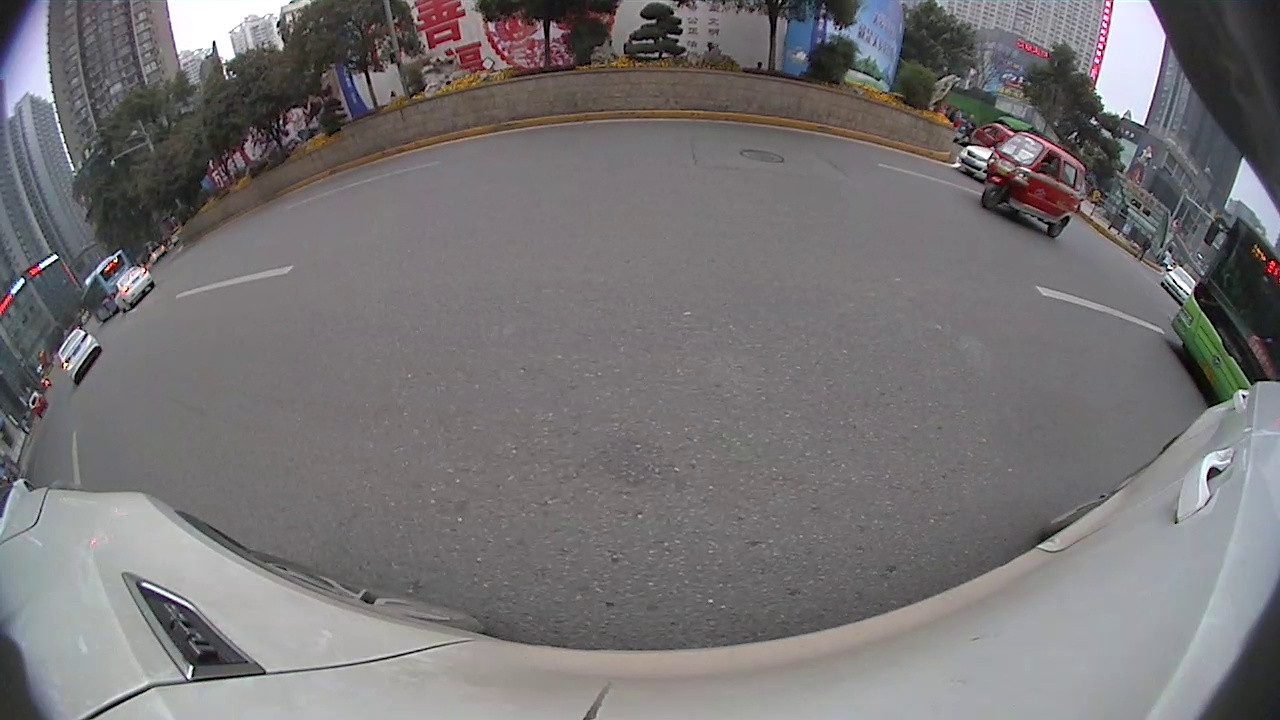bus: (1168, 214, 1279, 403), (78, 248, 142, 327)
car: (55, 326, 104, 385), (0, 475, 38, 537), (112, 263, 154, 314), (958, 140, 998, 178), (1162, 265, 1198, 304)
front: (980, 183, 1007, 211)
rear: (1046, 215, 1067, 240)
rider: (980, 131, 1087, 238), (969, 121, 1018, 153)
